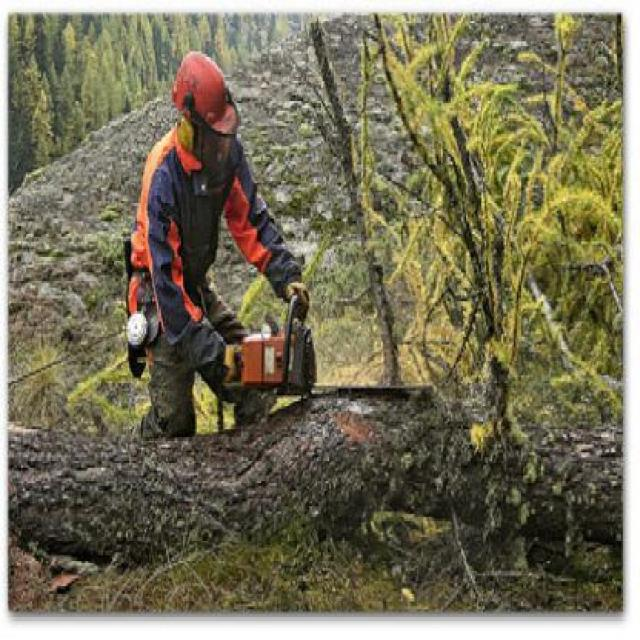Chainsaw: (217, 290, 434, 396)
